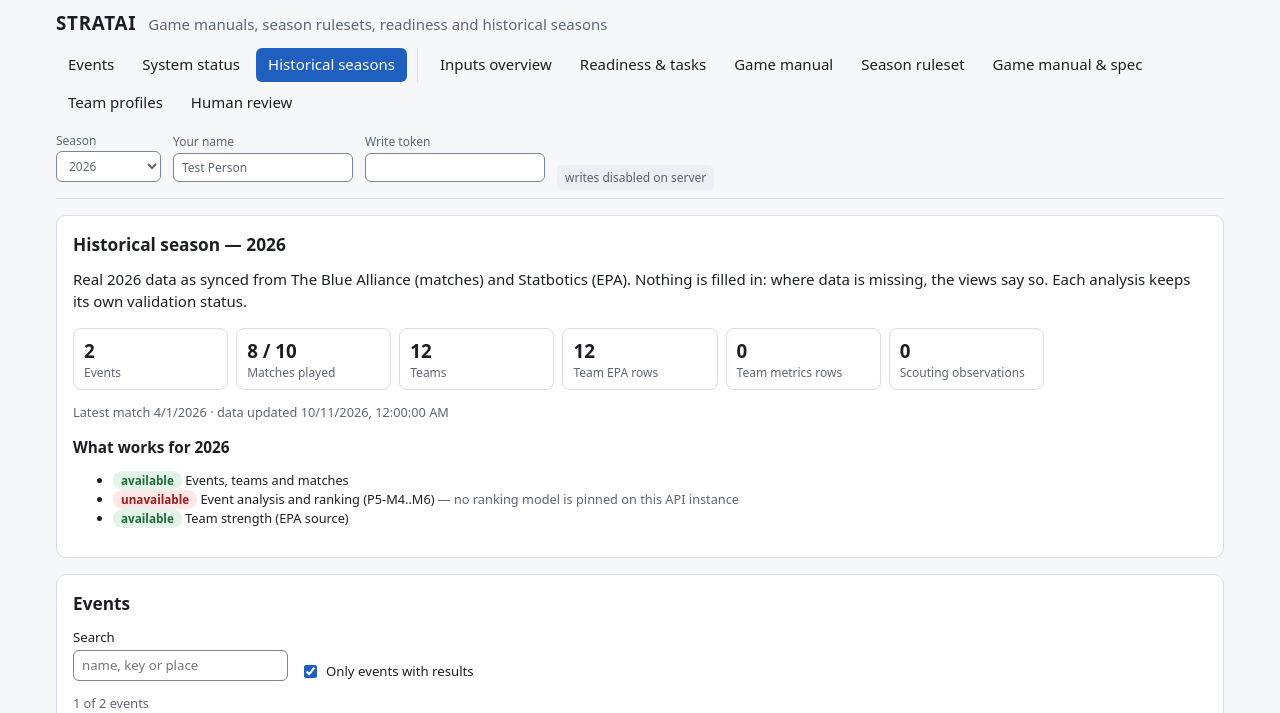
Test: season switching (the app shell) › re-fetches for the new season, never shows the previous season’s data, and browsing history writes nothing
Select "2024" in the dropdown labelled "Season" at (108, 167), box [56,151,161,182]
(page scrolled)
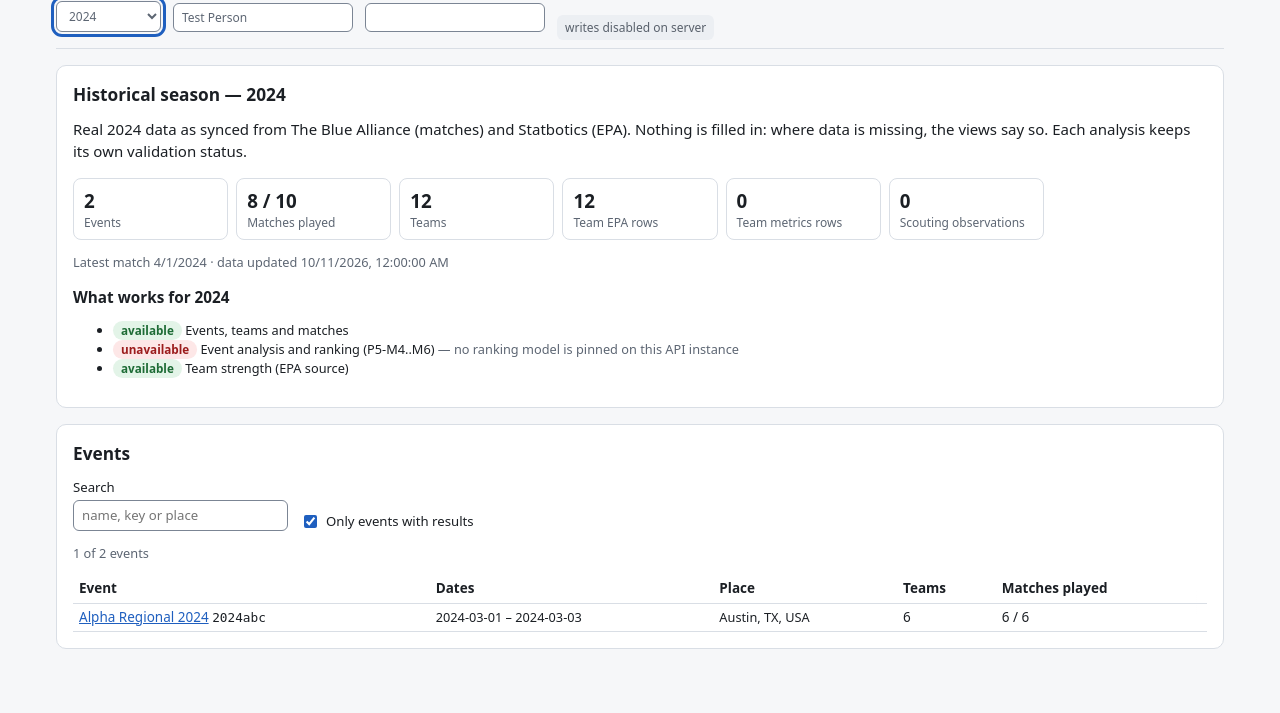
Check: the link "Alpha Regional 2024" is shown, box [79,608,209,626]
